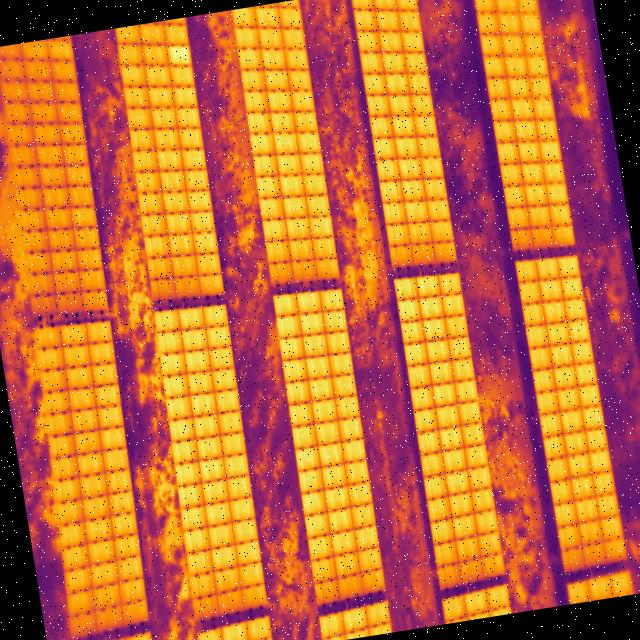Hotspot: (166, 40, 195, 66)
